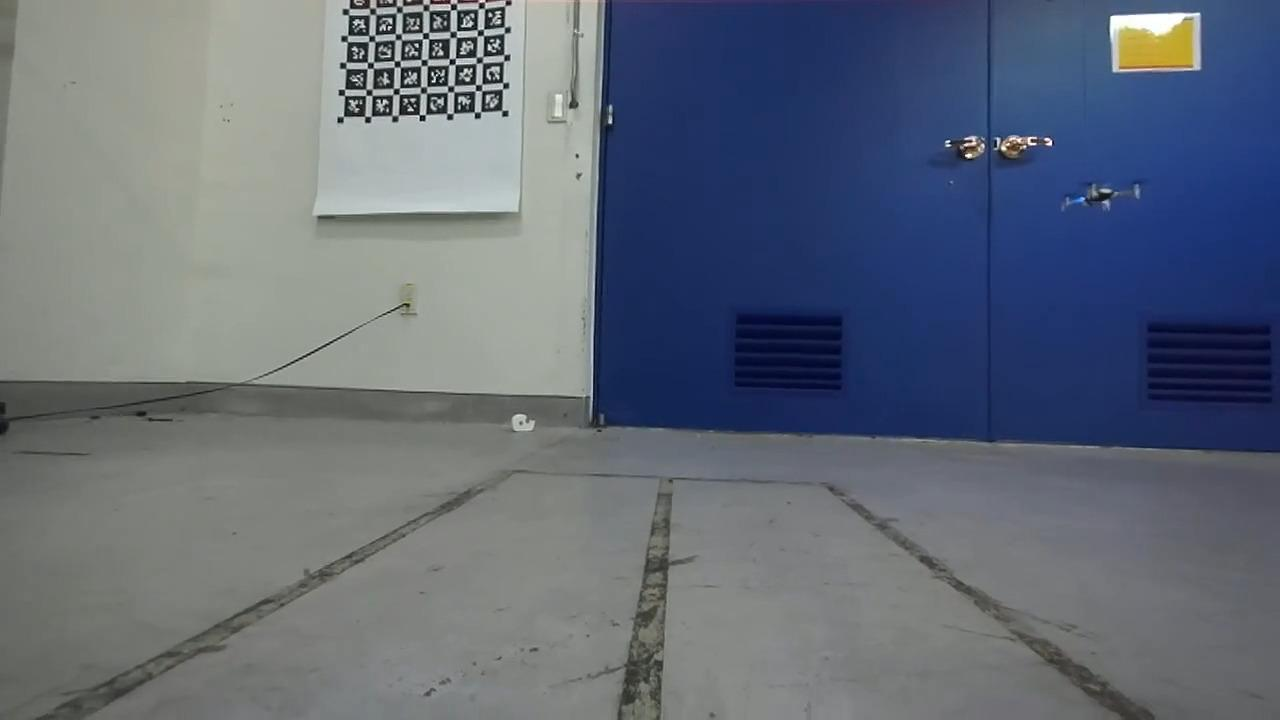crazyflie: (1051, 173, 1154, 218)
